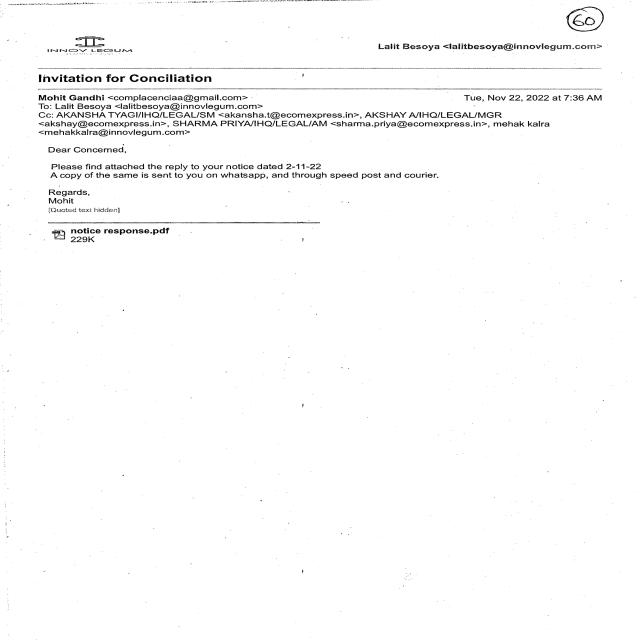page-number: (447, 0, 640, 41)
